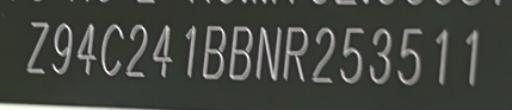letter: (18, 17, 52, 82), (394, 23, 428, 87), (426, 24, 458, 86), (254, 20, 284, 84), (96, 19, 126, 82), (226, 19, 254, 85), (148, 20, 176, 84), (122, 20, 150, 84), (200, 21, 228, 85), (281, 21, 309, 85), (310, 23, 338, 85), (338, 24, 366, 86), (366, 24, 394, 86), (458, 25, 486, 87), (72, 18, 98, 82), (174, 23, 200, 83), (50, 16, 74, 79)
